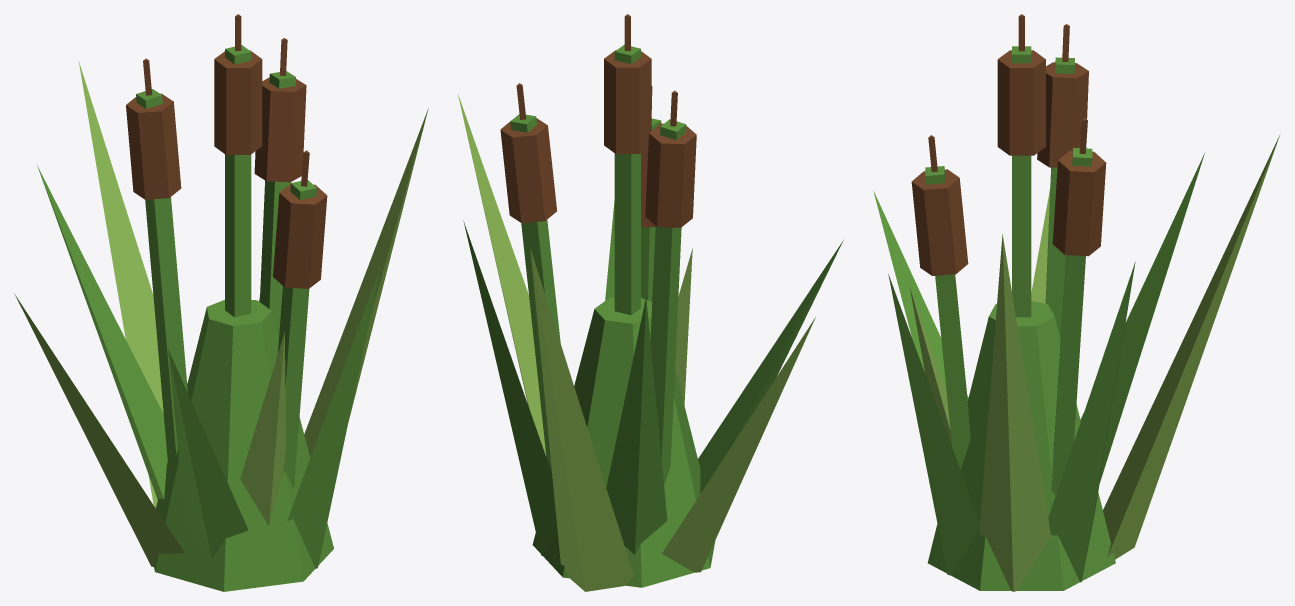
Rendered from reed.glb.
The picture shows the model from 3 angles, left to right: view 1: azimuth 30°, elevation 25°; view 2: azimuth 150°, elevation 25°; view 3: azimuth 270°, elevation 25°; orthographic projection.
Visible parts, largest first — view 1: reed; view 2: reed; view 3: reed.
Boxes of the visible parts, left/top/right/bottom form: reed: left=14, top=14, right=428, bottom=591; reed: left=458, top=14, right=843, bottom=591; reed: left=873, top=14, right=1279, bottom=591.
Bounding box in the file's own units: 0.932 × 1.23 × 0.8441.
1 material, 1 textured.
